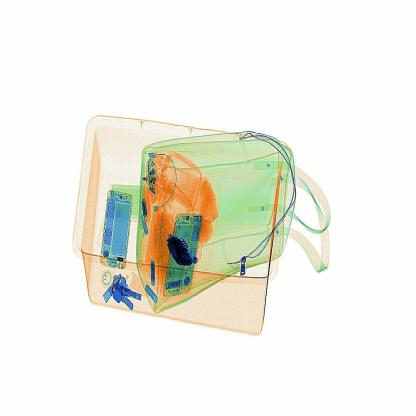scissors: (160, 228, 209, 277)
